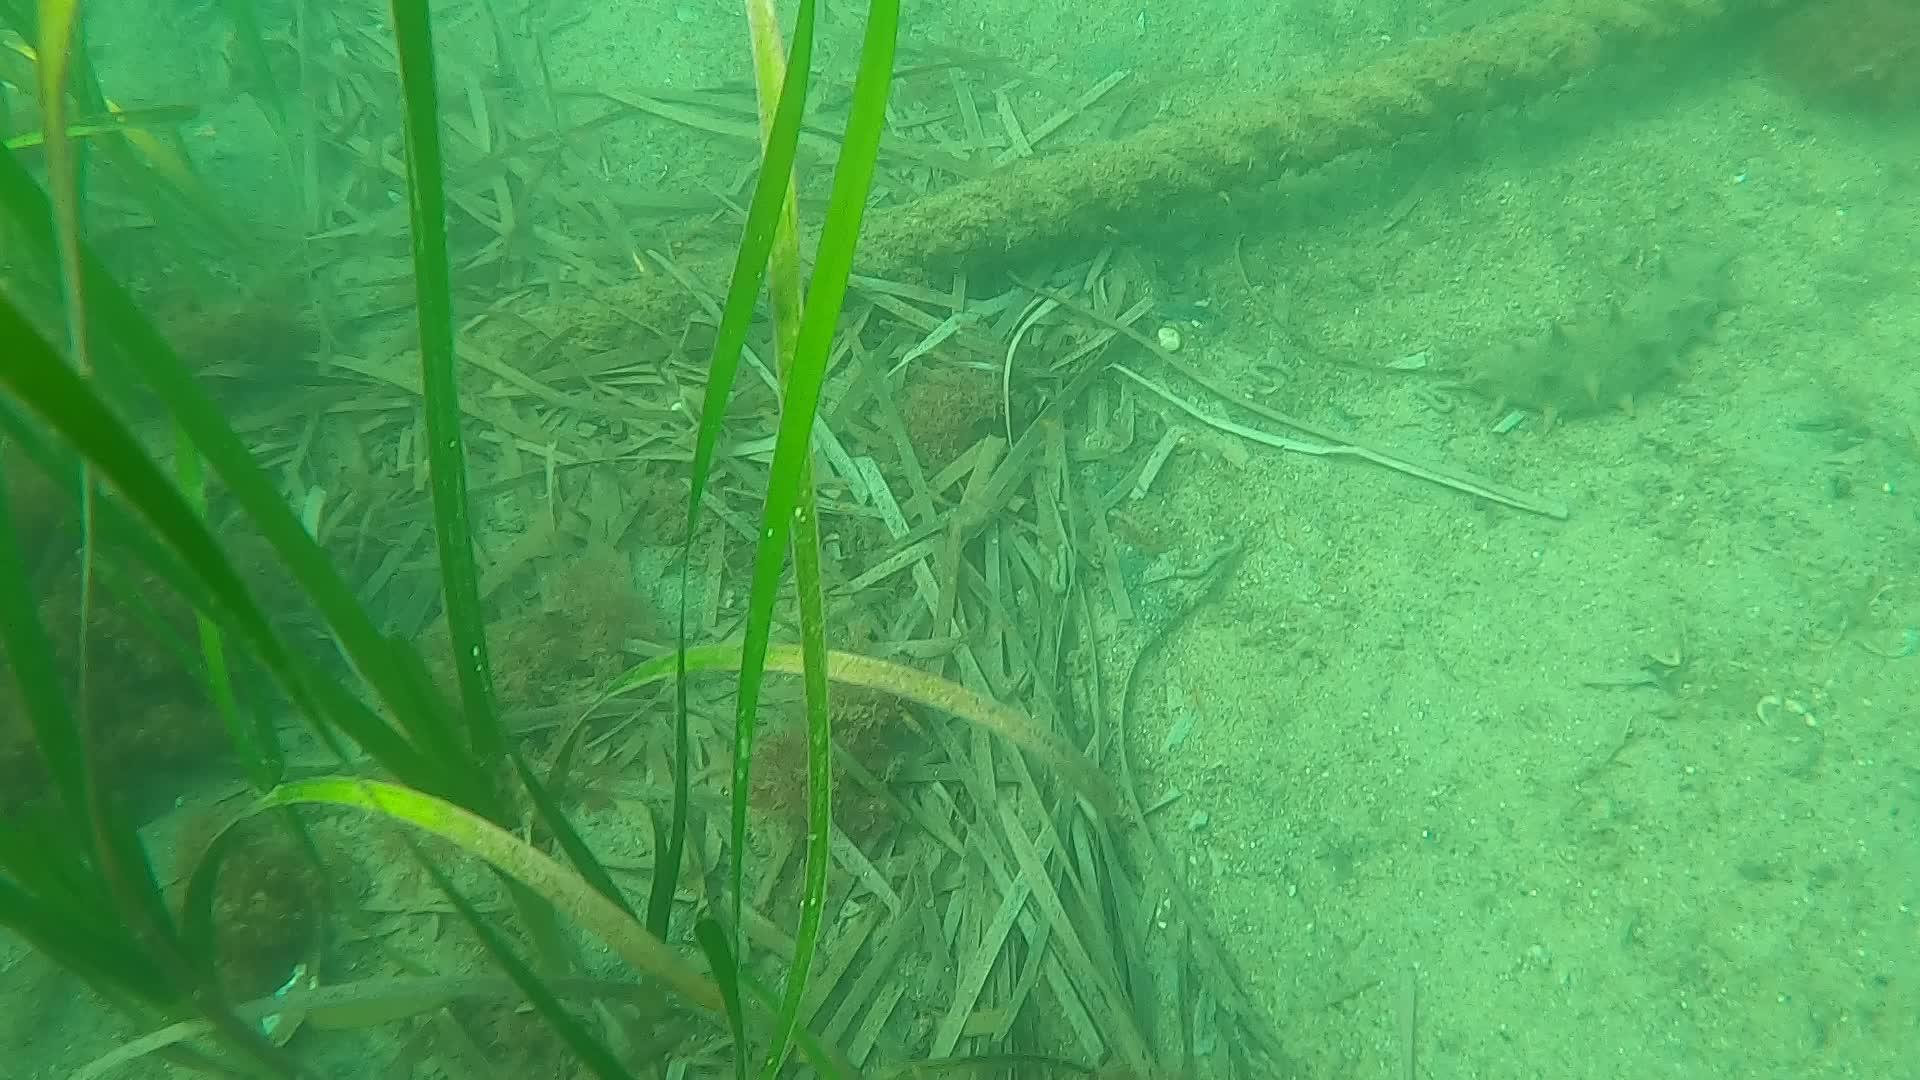rope: (465, 0, 1742, 377)
